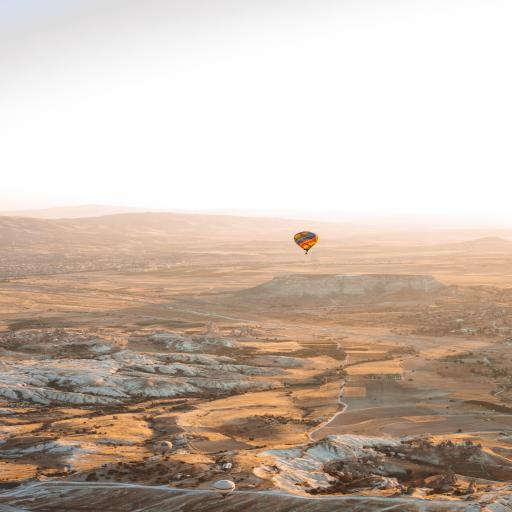hot air ballon: (294, 231, 319, 254)
